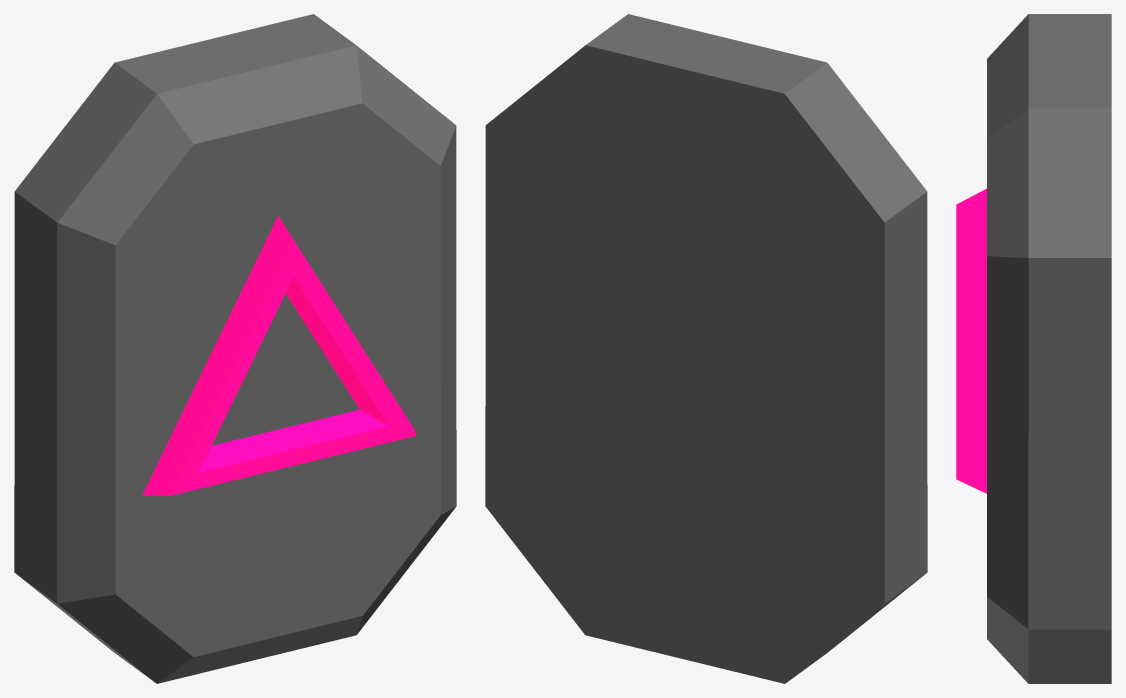
File: Triangle Key.glb
The picture shows the model from 3 angles, left to right: view 1: azimuth 30°, elevation 25°; view 2: azimuth 150°, elevation 25°; view 3: azimuth 270°, elevation 25°; orthographic projection. The views are drawn at different scales.
Visible parts, largest first — view 1: Oblisk Key Triangle; view 2: Oblisk Key Triangle; view 3: Oblisk Key Triangle.
Part boxes in pixels (x1,y1,x2,y2): Oblisk Key Triangle: (14,14,456,683); Oblisk Key Triangle: (485,14,927,683); Oblisk Key Triangle: (956,14,1111,683).
Size of the model in its own units: 0.5399 by 0.7622 by 0.1868.
